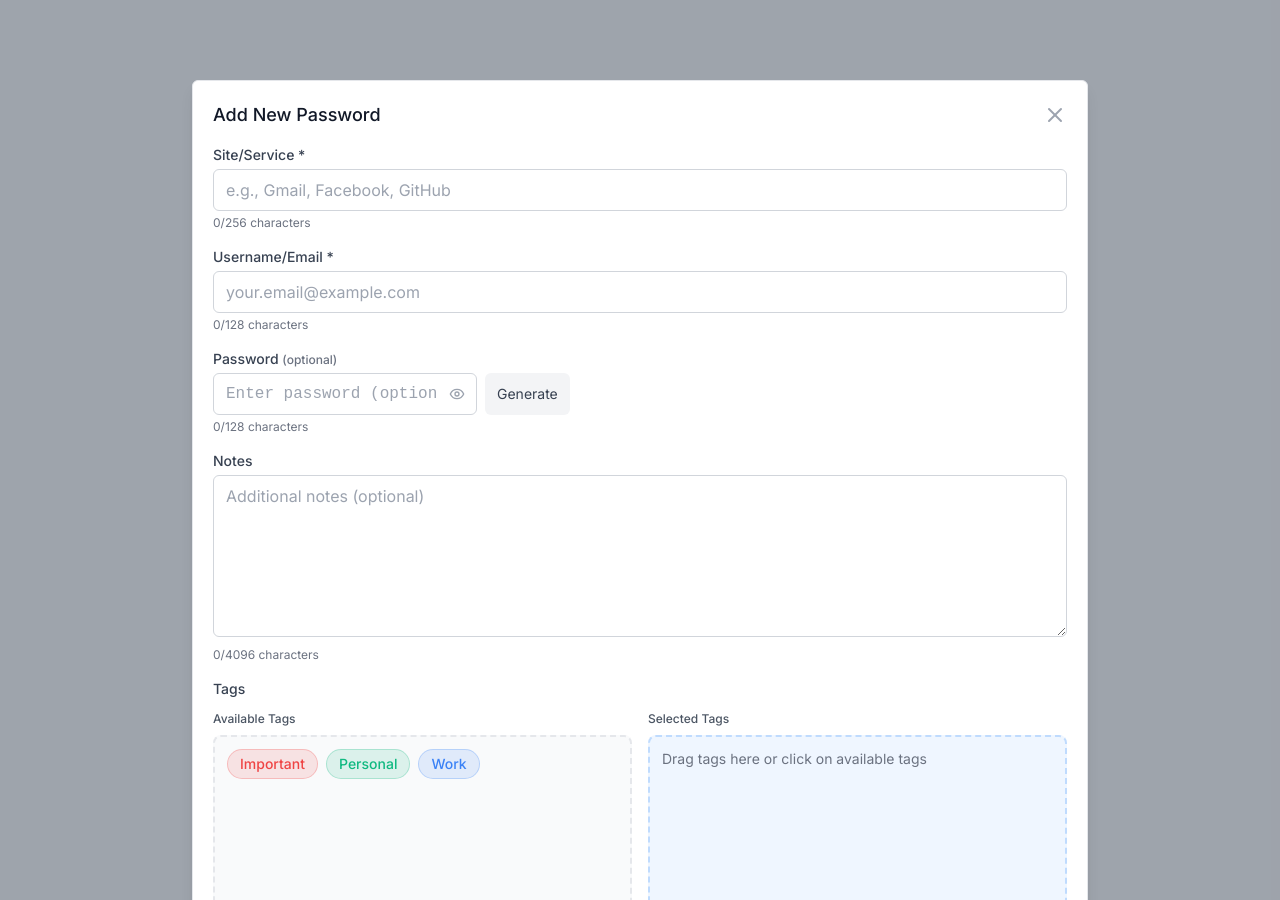
PasswordForm with Drag and Drop Tags › should move tag from available to selected when clicked
Click on Work tag
Click the text "Work" at {"x": 449, "y": 764}, box [418,749,480,779]
(page scrolled)
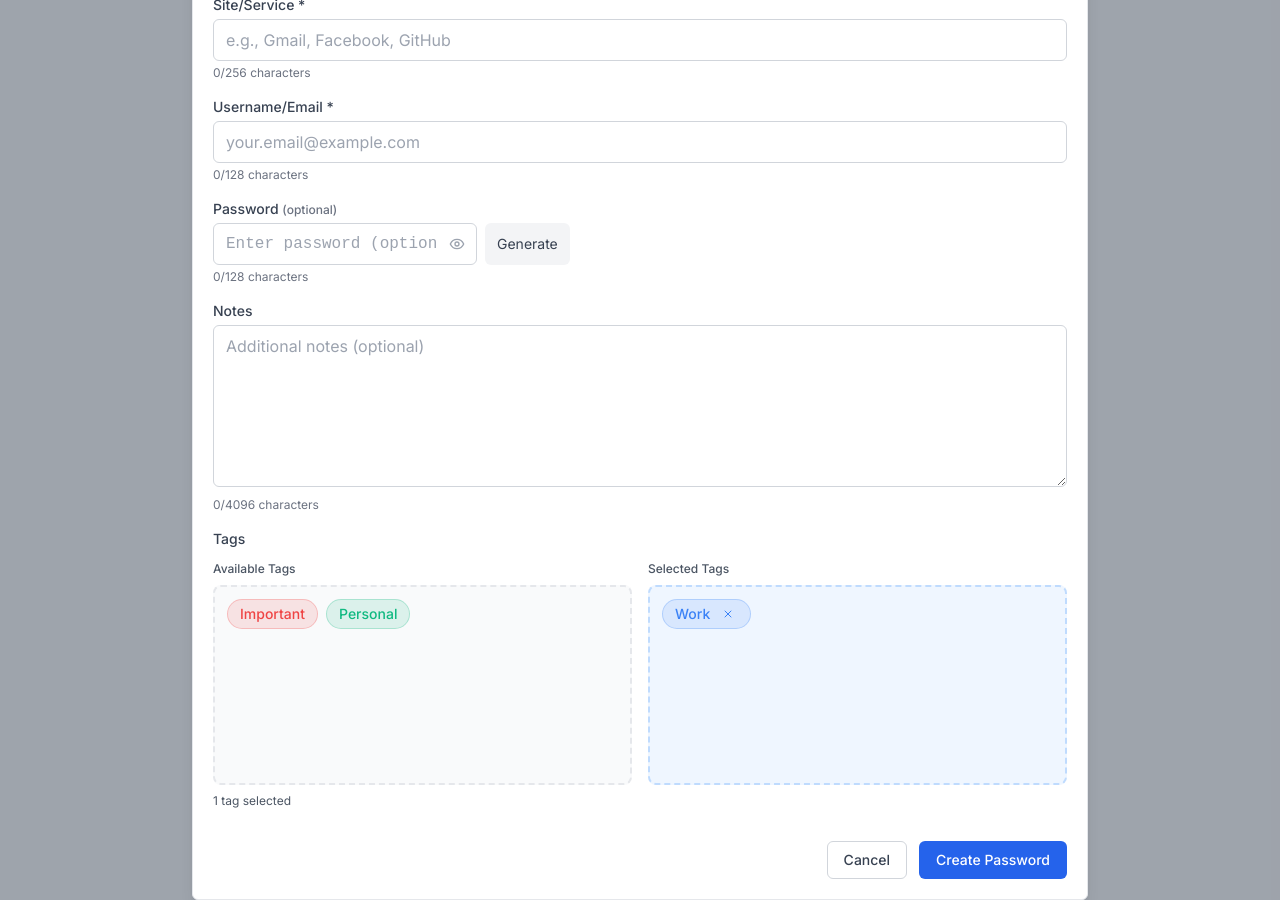
expect the text "Selected Tags" shows "Work": met, box [675,605,710,622]
